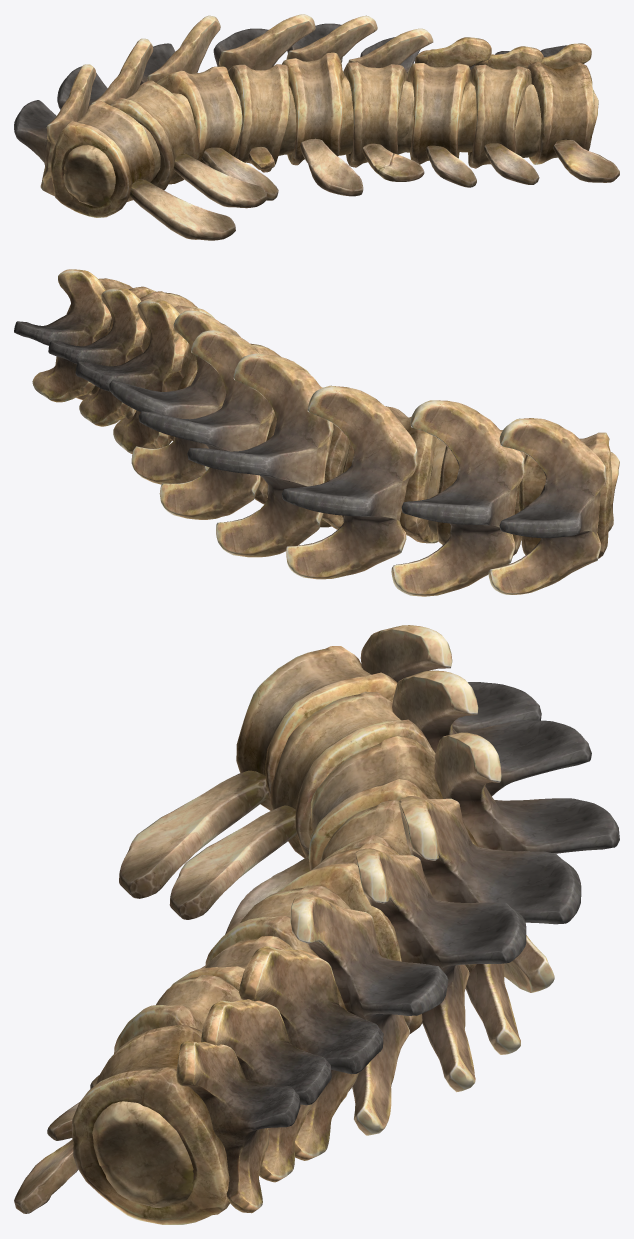
3 renders of one model, top to bottom at view 1: azimuth 30°, elevation 25°; view 2: azimuth 150°, elevation 25°; view 3: azimuth 270°, elevation 25°, orthographic. The views are drawn at different scales.
Visible parts, largest first — view 1: SM_Dragon_Tail_Segment_01_LOD0; view 2: SM_Dragon_Tail_Segment_01_LOD0; view 3: SM_Dragon_Tail_Segment_01_LOD0.
Part boxes in pixels (bbox=[...]): SM_Dragon_Tail_Segment_01_LOD0: bbox=[14, 14, 619, 240]; SM_Dragon_Tail_Segment_01_LOD0: bbox=[14, 269, 619, 596]; SM_Dragon_Tail_Segment_01_LOD0: bbox=[14, 625, 619, 1224].
Bounding box in the file's own units: 29.14 × 8.12 × 17.34.
Materials: 4 (4 with a texture image).
